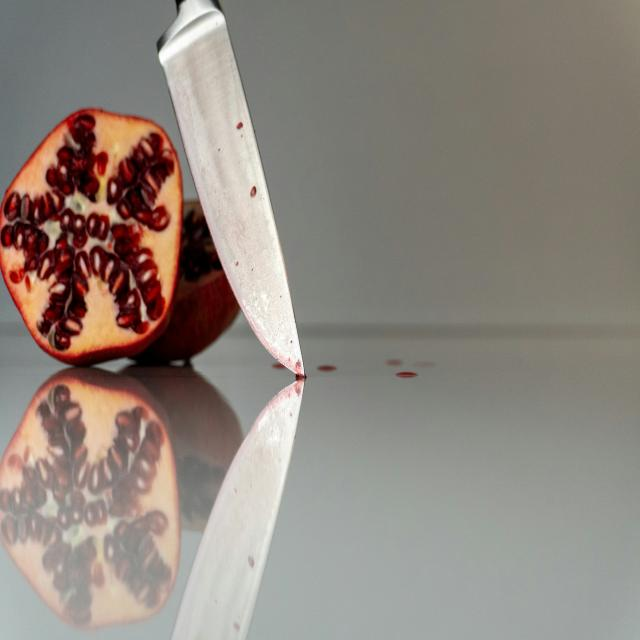knife: (156, 2, 306, 378)
